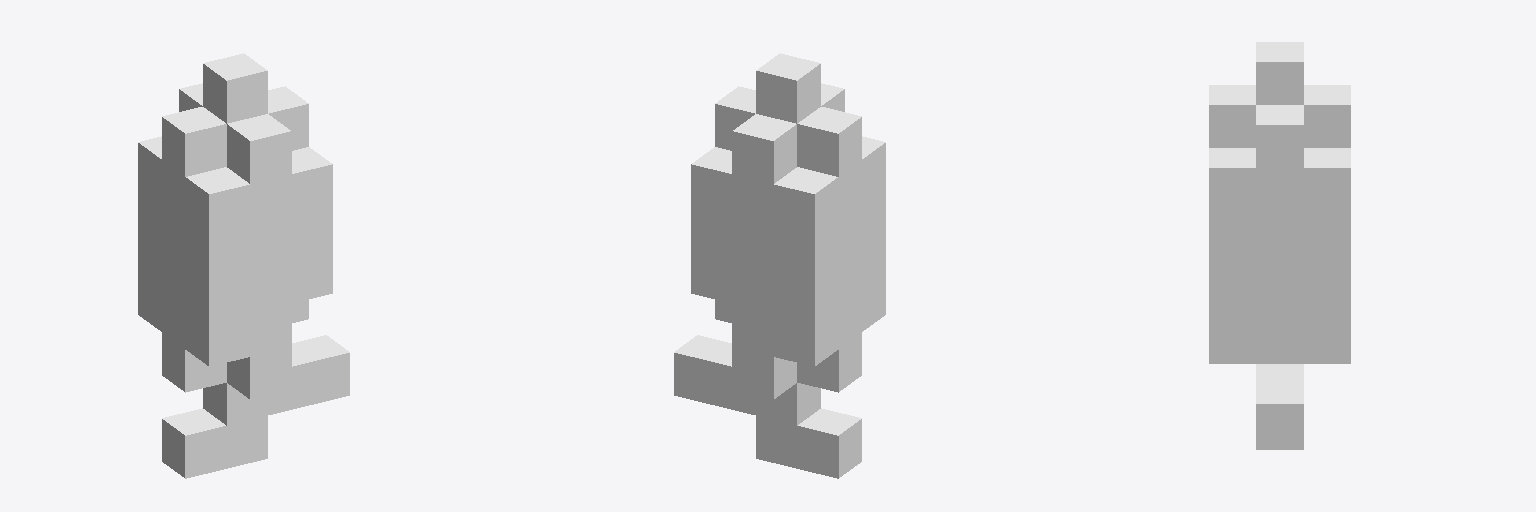
The model's file is Enemy-5.obj.
The picture shows the model from 3 angles: view 1: azimuth 30°, elevation 25°; view 2: azimuth 150°, elevation 25°; view 3: azimuth 270°, elevation 25°; orthographic projection.
Parts seen in each view (by area): view 1: object 1; view 2: object 1; view 3: object 1.
Part boxes in pixels (x1,y1,x2,y2): object 1: (138,53,349,478); object 1: (674,53,885,478); object 1: (1209,42,1350,449).
Bounding box in the file's own units: 0.4 × 0.9 × 0.3.